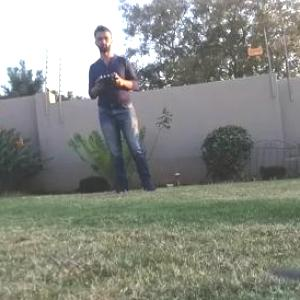follow: (86, 18, 164, 197)
